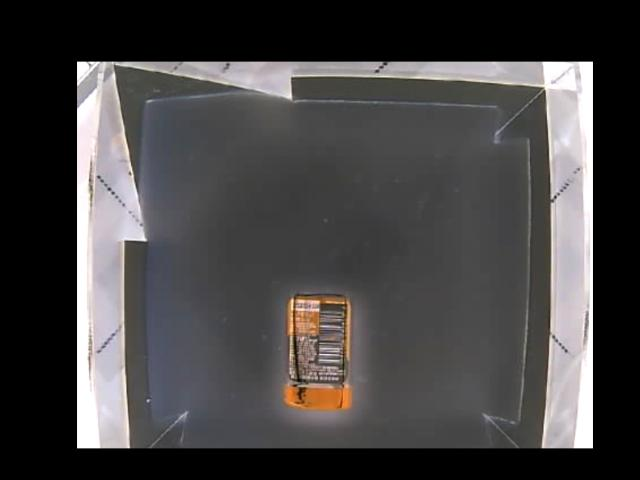Bottle: (283, 292, 355, 409)
